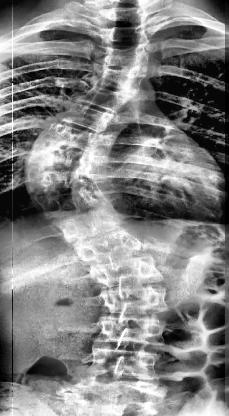Vertebrae: (77, 379, 157, 415), (87, 346, 161, 384), (94, 284, 172, 320), (75, 232, 145, 268), (97, 316, 168, 350), (32, 184, 104, 216), (56, 208, 128, 240), (92, 259, 164, 291), (26, 140, 90, 170), (56, 102, 114, 132), (41, 121, 99, 150), (25, 166, 92, 190), (97, 63, 150, 92), (95, 44, 153, 70), (80, 86, 134, 112), (96, 24, 152, 48), (96, 7, 150, 29)
